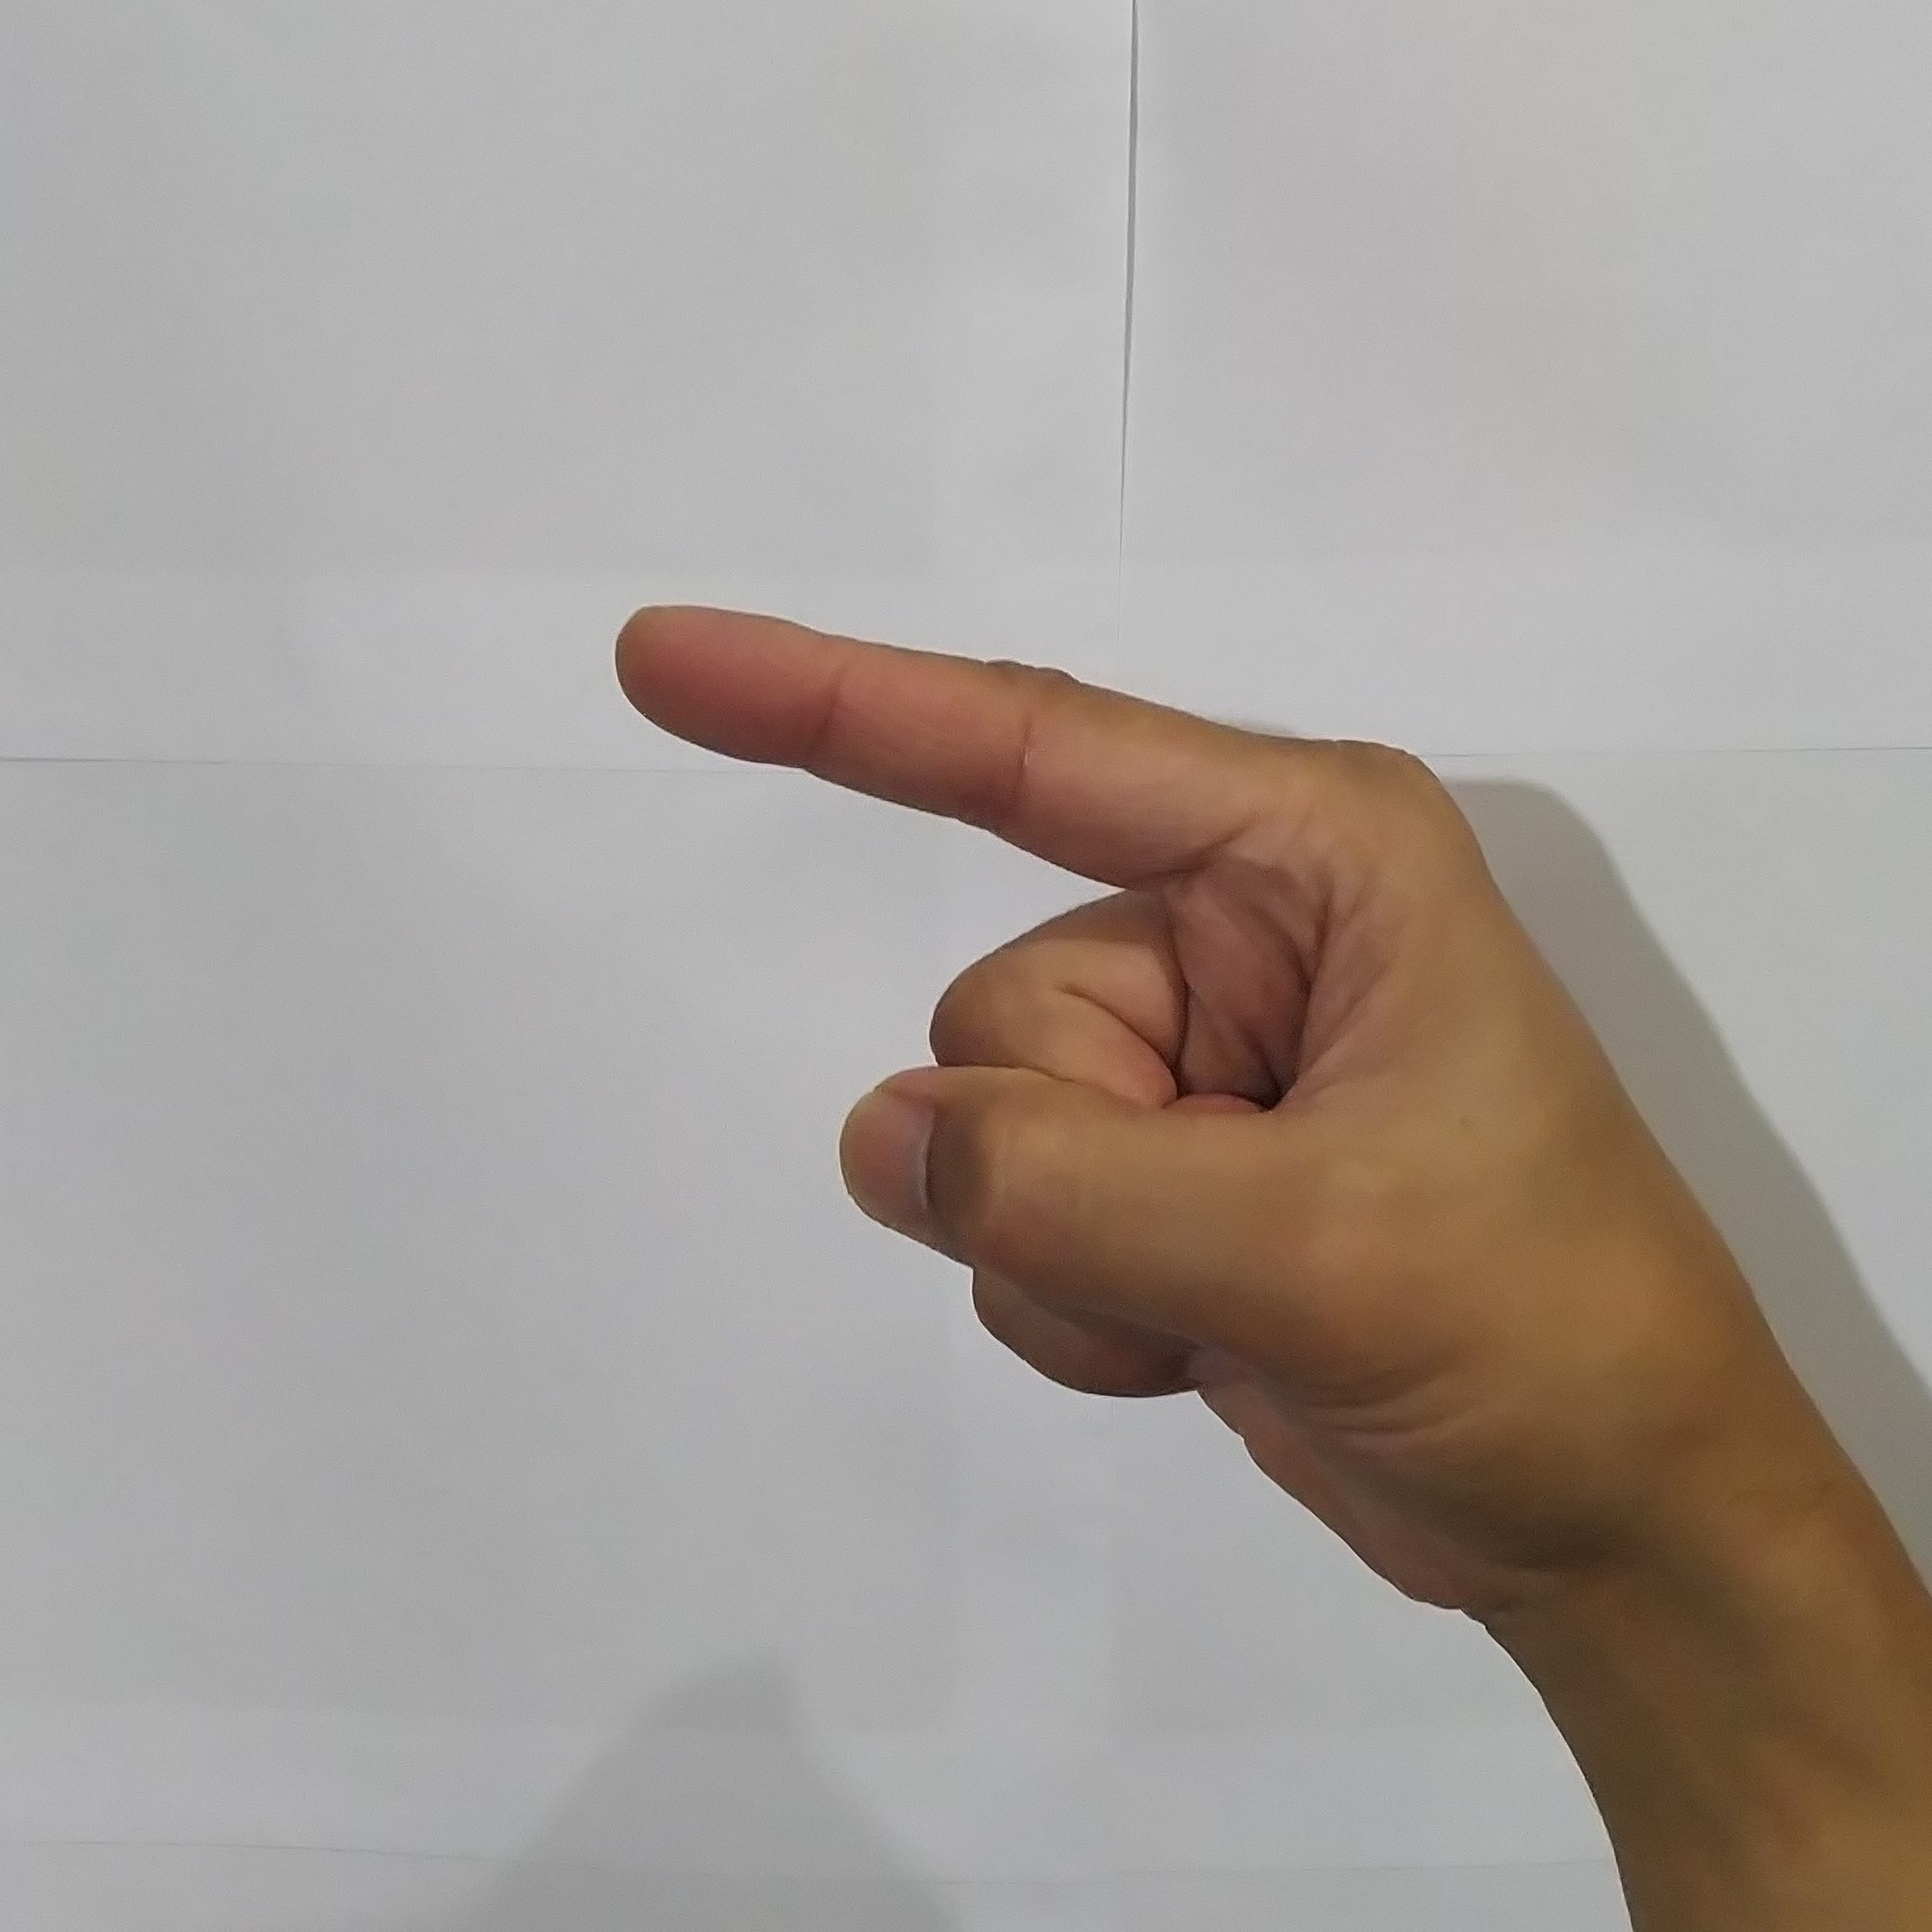Z: (577, 563, 1750, 1606)
